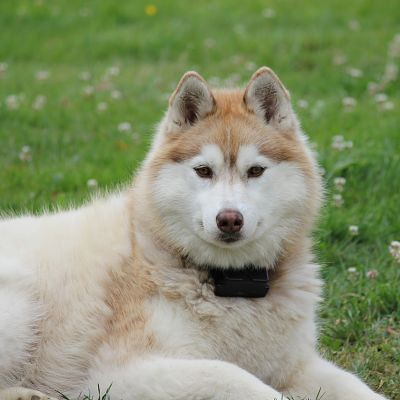husky: (75, 53, 336, 384)
